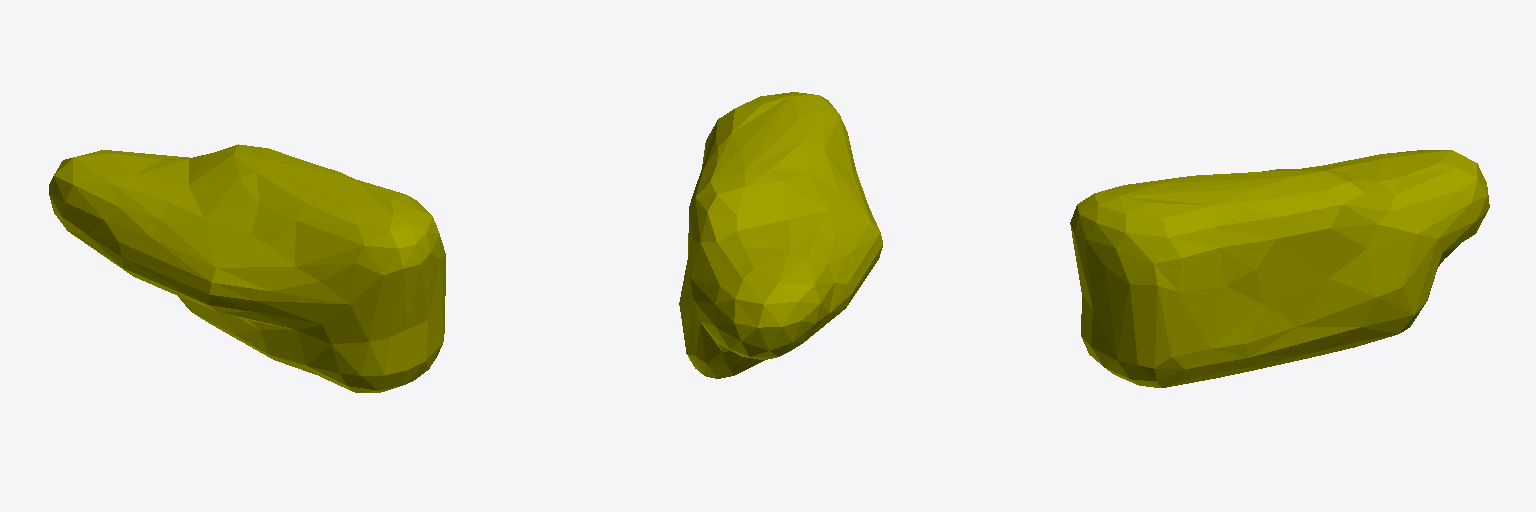
The model's file is SpC.obj.
3 renders of one model, left to right at view 1: azimuth 30°, elevation 25°; view 2: azimuth 150°, elevation 25°; view 3: azimuth 270°, elevation 25°, orthographic.
Visible parts, largest first — view 1: SpC_SpC.005; view 2: SpC_SpC.005; view 3: SpC_SpC.005.
Part boxes in pixels (x1,y1,x2,y2): SpC_SpC.005: (49,144,445,392); SpC_SpC.005: (679,92,882,378); SpC_SpC.005: (1070,150,1489,387).
Size of the model in its own units: 0.9974 by 0.6844 by 1.49.